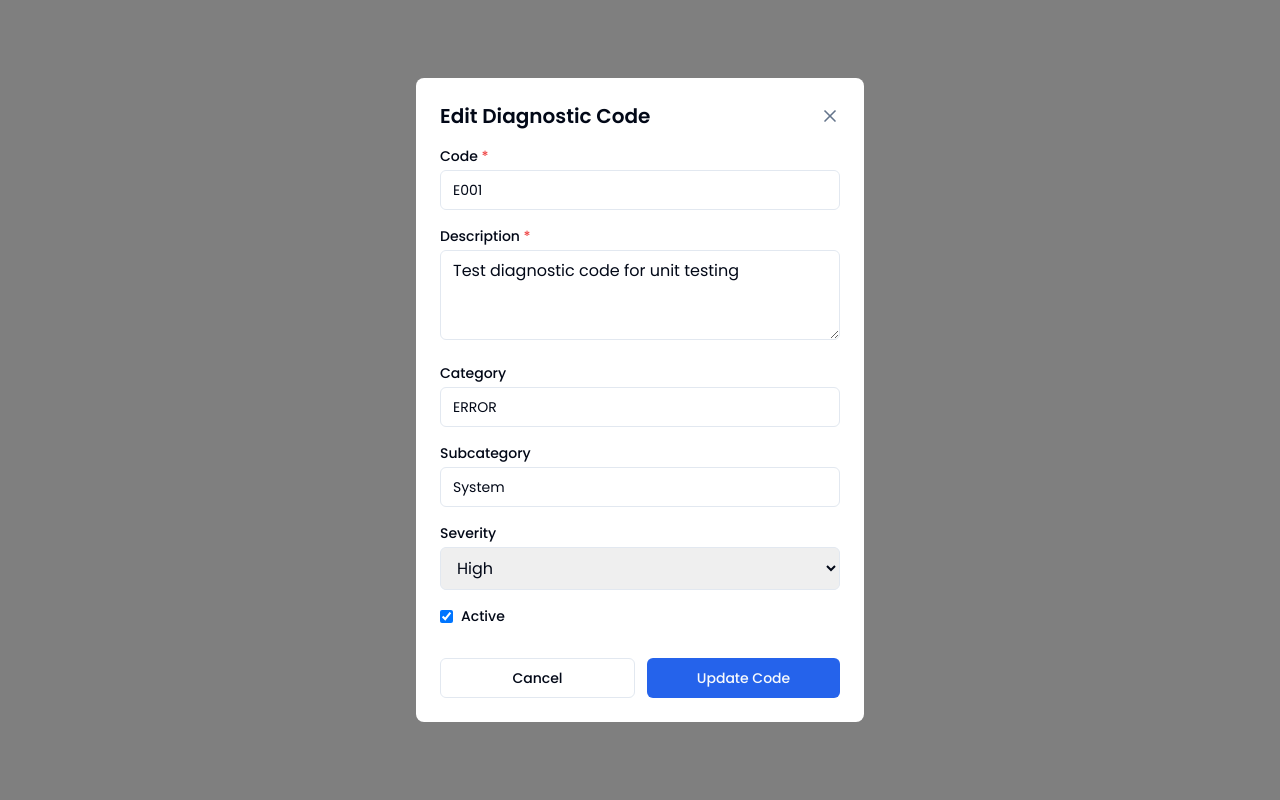
EditCodeModal › handles submission errors
Clear description and submit
Clear the text box showing "Test diagnostic code for unit testing" at (640, 295), box [440,250,840,340]
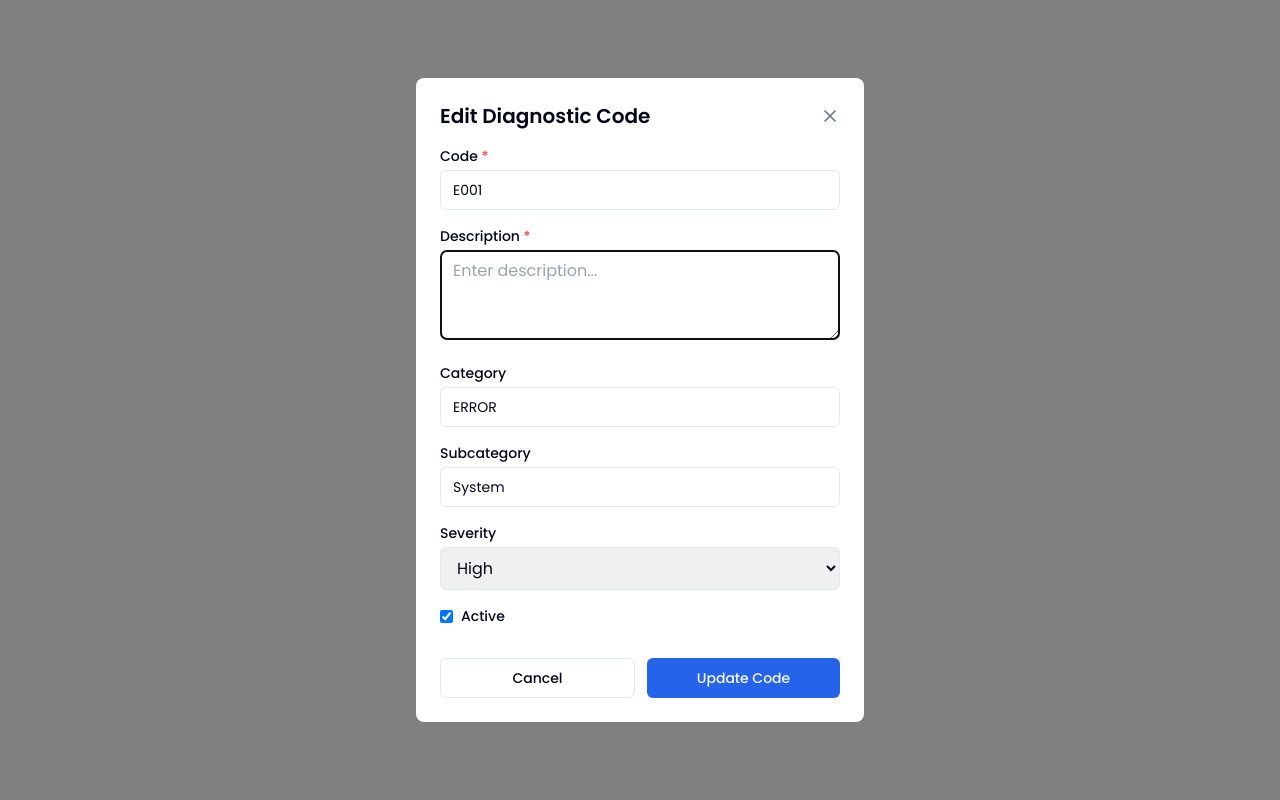
Click the button "Update Code".
click(744, 678)  # box [647,658,840,698]
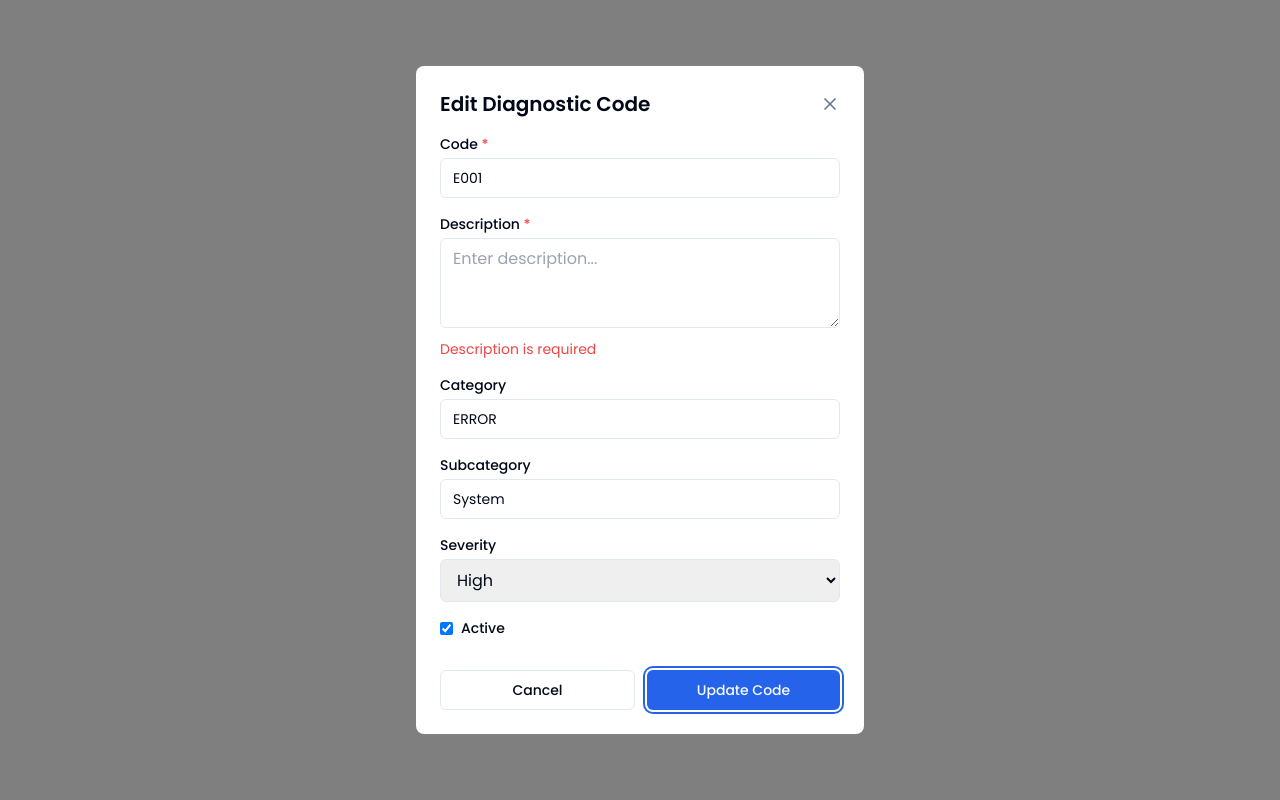
Now the text "Description is required" is shown, box [440,339,596,359]
